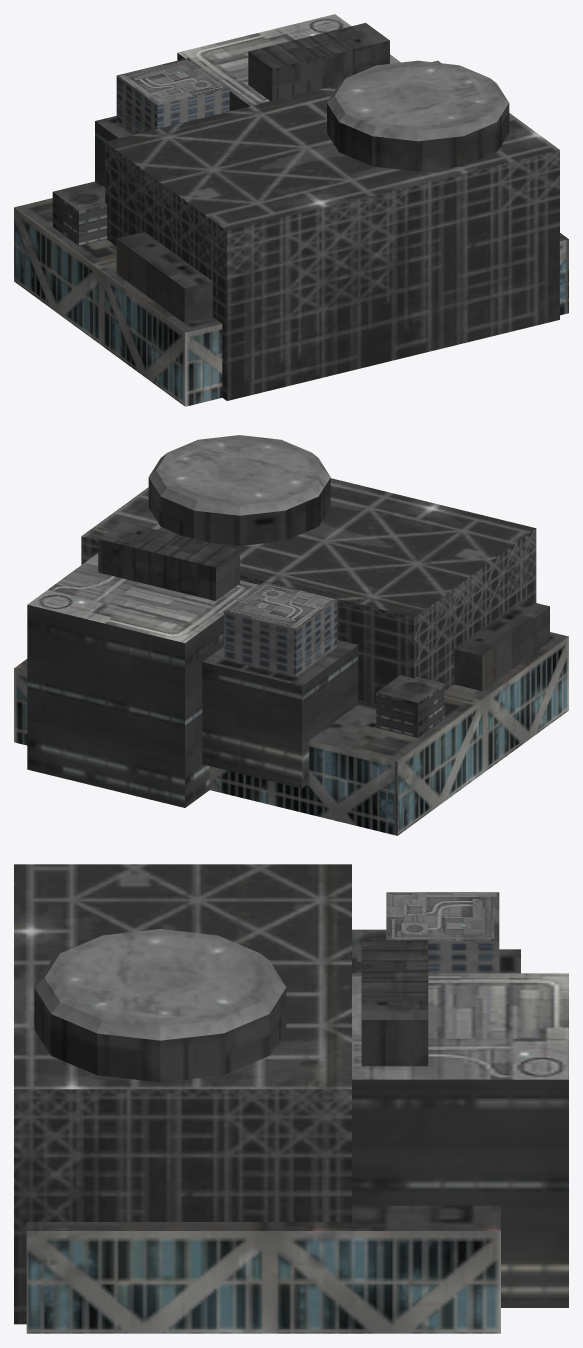
The model's file is scifi_building_42.obj.
3 views of the same model, one above another, from view 1: azimuth 30°, elevation 25°; view 2: azimuth 150°, elevation 25°; view 3: azimuth 270°, elevation 25° (orthographic). The views are drawn at different scales.
Visible parts, largest first — view 1: building_42; view 2: building_42; view 3: building_42.
Boxes of the visible parts, bbox=[...] form: building_42: bbox=[14, 14, 568, 406]; building_42: bbox=[14, 435, 568, 835]; building_42: bbox=[14, 864, 568, 1333].
Size of the model in its own units: 94.79 by 48.87 by 85.82.
Materials: 1 (1 with a texture image).
